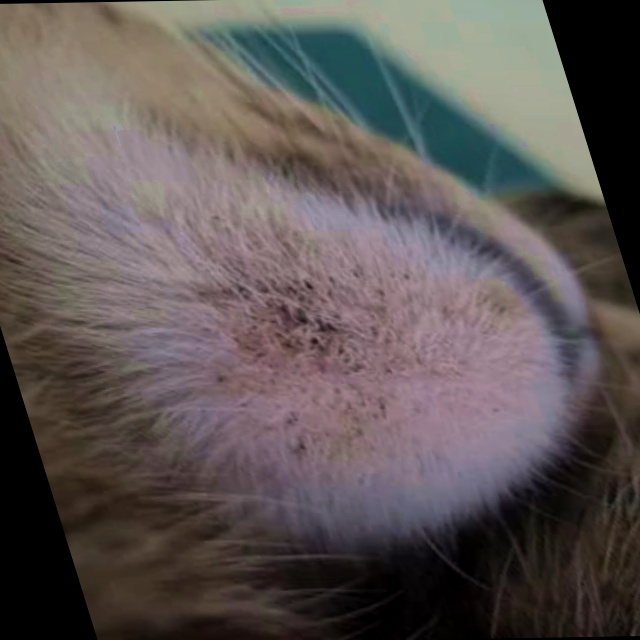acne: (161, 254, 472, 458)
